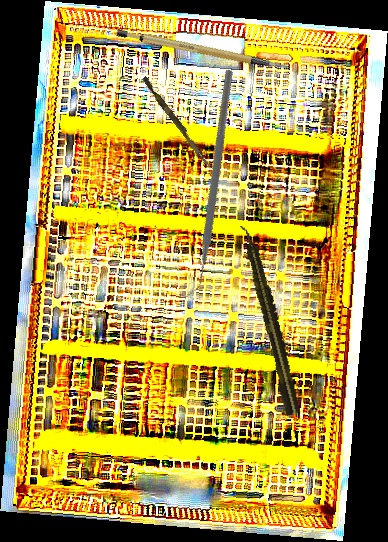Chopper: (104, 68, 310, 300)
Handpiece: (237, 222, 303, 417)
Pusher: (139, 76, 216, 170)
Scalpel Handle: (114, 6, 290, 97)
